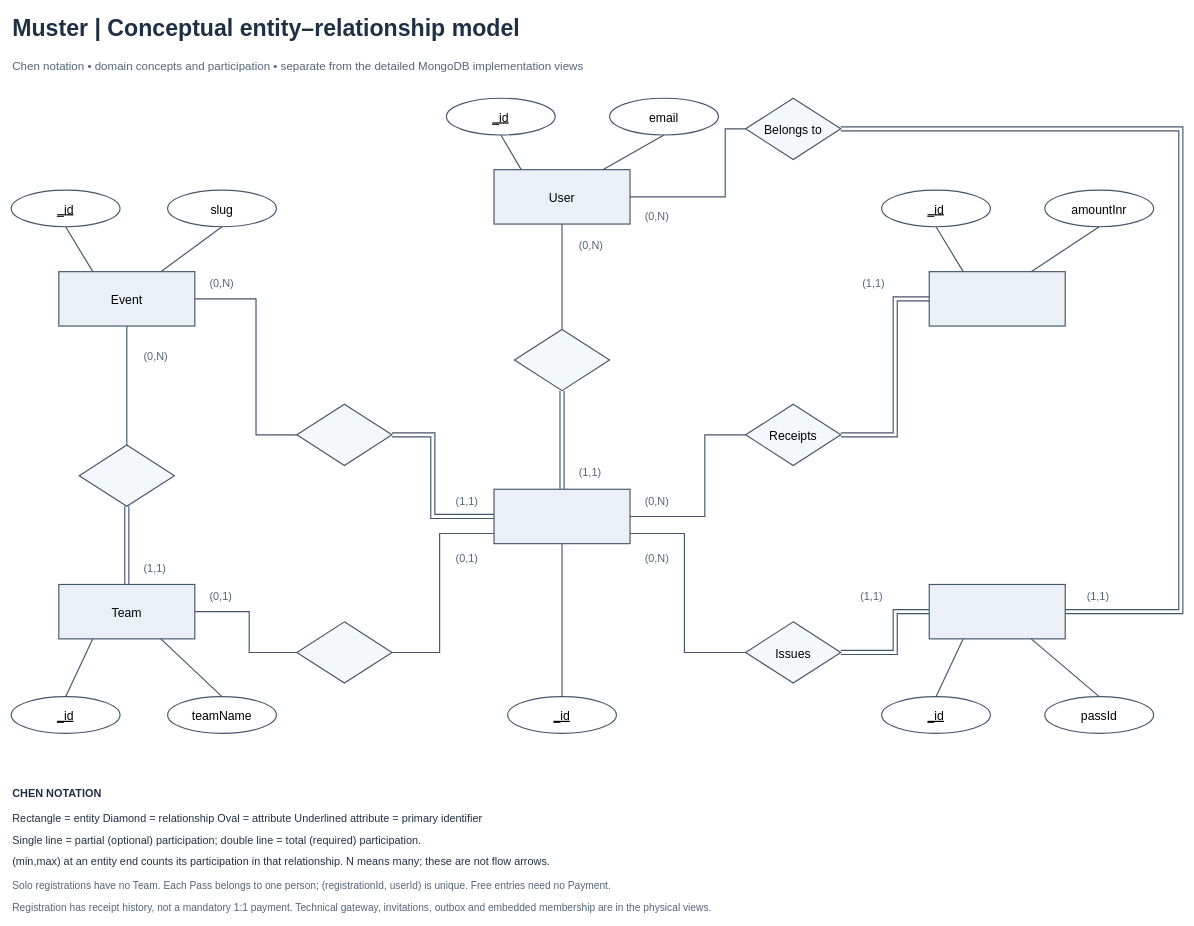
Image size: 1194x926. Some labels were removed from this diagram. The centre of each missing label's shape, as x and y in pixels:
"For team" belongs at (x=344, y=652).
"Has teams" belongs at (x=126, y=475).
"Leads" belongs at (x=562, y=360).
"Pass" belongs at (x=996, y=611).
"Payment" belongs at (x=996, y=298).
"Registers" belongs at (x=344, y=434).
"Registration" belongs at (x=561, y=516).
